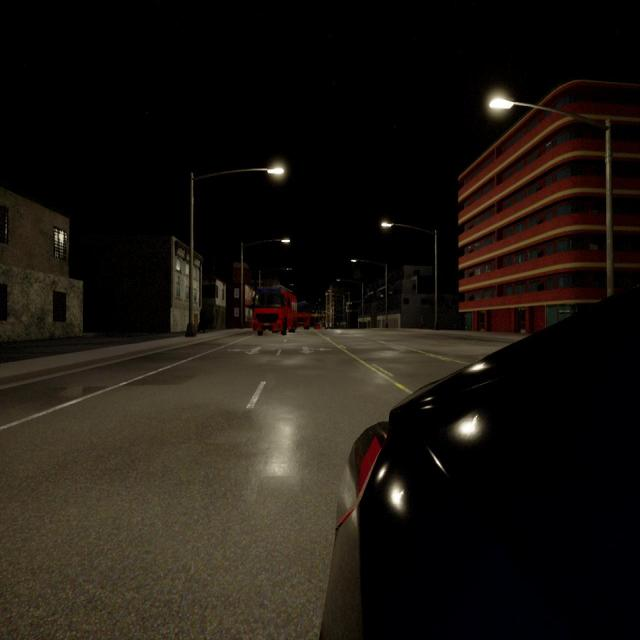Pedestrian: (198, 304, 205, 332)
Vehicle: (324, 297, 640, 638), (254, 286, 296, 334), (297, 302, 309, 328), (314, 320, 322, 330)
